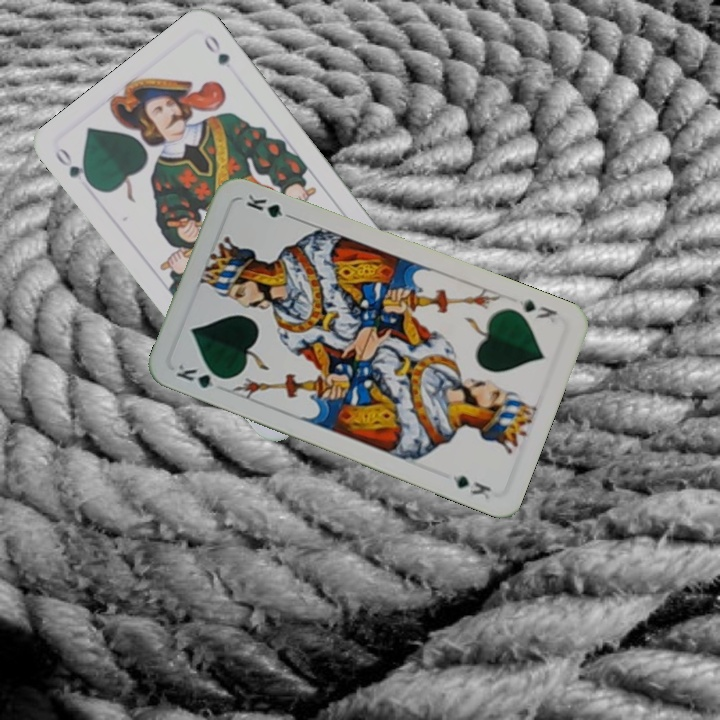GK: (172, 360, 230, 391), (513, 295, 561, 322)
GO: (50, 143, 98, 191)
